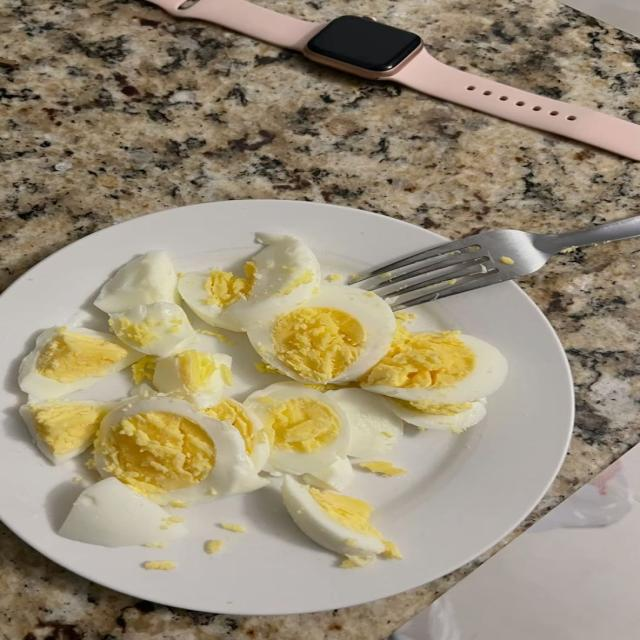egg boiled: (94, 396, 267, 504), (248, 285, 396, 383), (179, 234, 320, 331), (361, 328, 507, 404), (244, 383, 348, 474), (19, 327, 141, 400), (59, 478, 186, 547), (282, 476, 389, 556), (20, 400, 115, 464), (94, 250, 178, 313), (328, 388, 403, 457), (201, 398, 270, 471), (109, 303, 197, 357), (154, 350, 232, 408), (391, 399, 486, 433), (301, 458, 354, 491)
